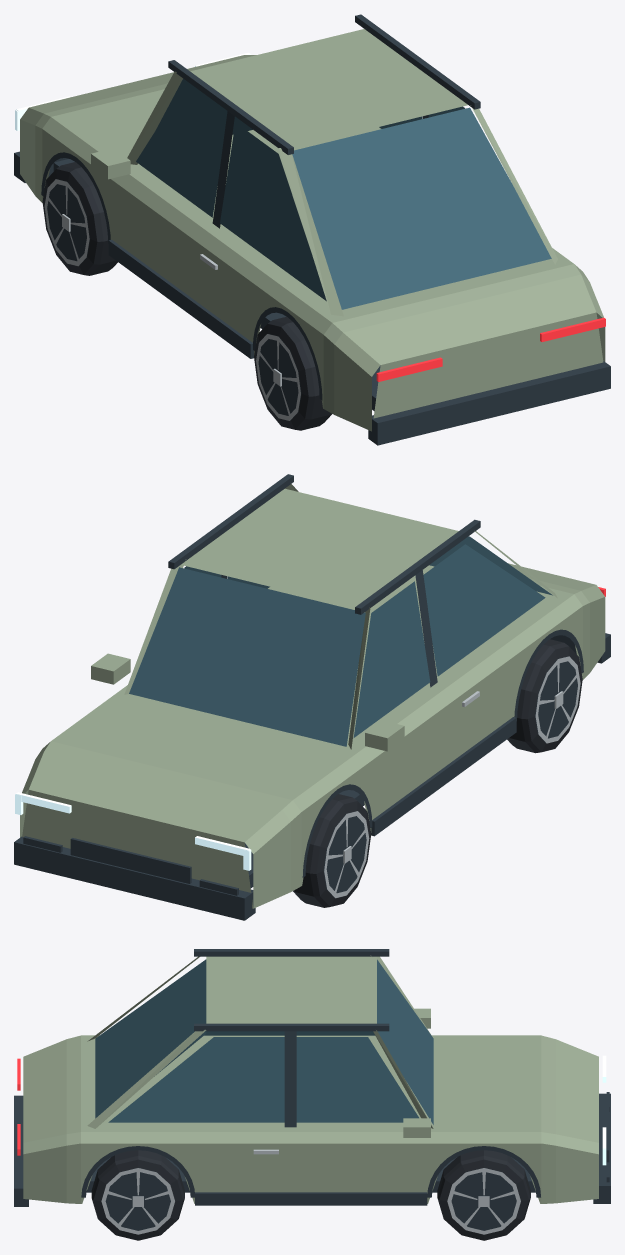
The model's file is summit_x.glb.
3 views of the same model, one above another, from view 1: azimuth 30°, elevation 25°; view 2: azimuth 150°, elevation 25°; view 3: azimuth 270°, elevation 25° (orthographic). The views are drawn at different scales.
Visible parts, largest first — view 1: Body, Wheel_2, Wheel_0; view 2: Body, Wheel_0, Wheel_2; view 3: Body, Wheel_1, Wheel_3.
Part boxes in pixels (x1,y1,x2,y2): Body: (14,14,610,445); Wheel_2: (254,316,331,430); Wheel_0: (42,162,117,275); Body: (14,474,610,920); Wheel_0: (293,794,371,907); Wheel_2: (507,639,582,753); Body: (14,949,610,1206); Wheel_1: (437,1150,530,1240); Wheel_3: (91,1150,184,1240).
Size of the model in its own units: 2.22 by 1.75 by 4.73.
